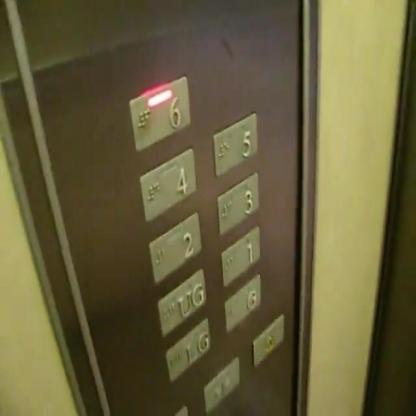1: (220, 224, 261, 287)
2: (148, 211, 202, 284)
3: (216, 172, 260, 235)
4: (138, 147, 197, 220)
5: (213, 112, 258, 177)
6: (129, 74, 191, 152)
G: (224, 273, 260, 330)
LG: (164, 318, 210, 383)
UG: (156, 269, 206, 337)
alarm: (251, 312, 285, 366)
blur: (204, 356, 240, 414)
